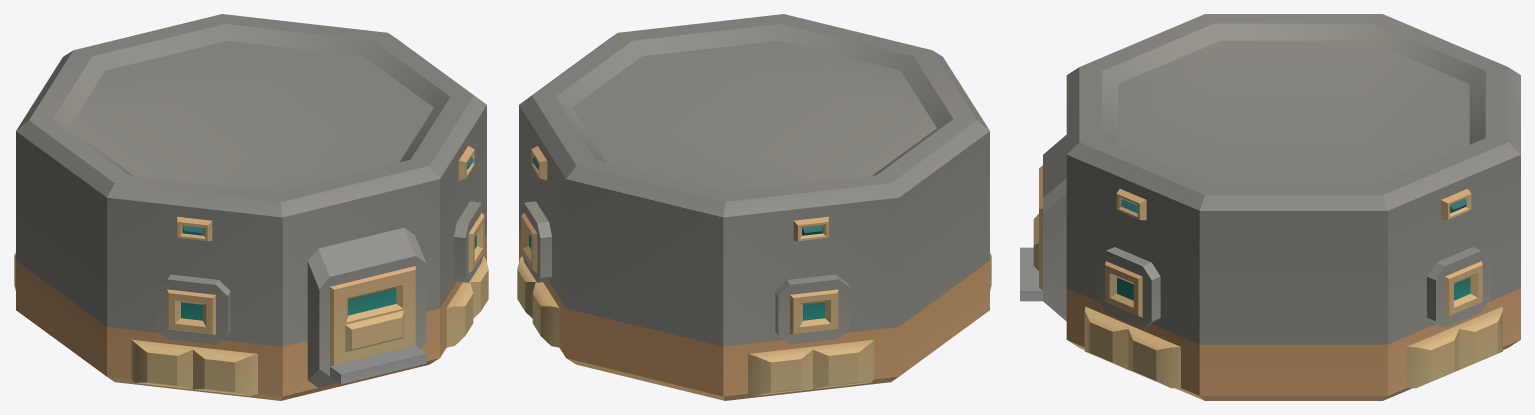
The model's file is stasis_pylon.glb.
The picture shows the model from 3 angles, left to right: view 1: azimuth 30°, elevation 25°; view 2: azimuth 150°, elevation 25°; view 3: azimuth 270°, elevation 25°; orthographic projection. The views are drawn at different scales.
Bounding box in the file's own units: 2 × 1 × 2.21.
